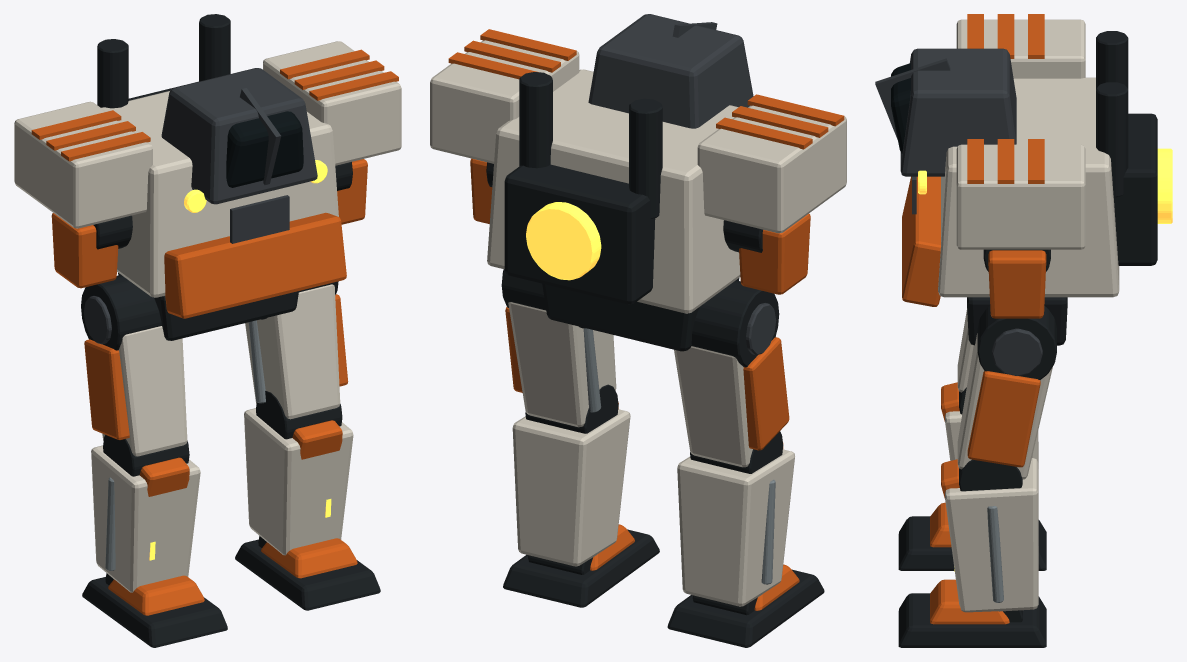
File: mech_ring.glb
The picture shows the model from 3 angles, left to right: view 1: azimuth 30°, elevation 25°; view 2: azimuth 150°, elevation 25°; view 3: azimuth 270°, elevation 25°; orthographic projection. The views are drawn at different scales.
Parts seen in each view (by area): view 1: core, lower_plate, shoulder_L, shin_armor_R, cockpit_frame, shin_armor_L, thigh_armor_R, shoulder_R, thigh_armor_L, foot_sole_R, foot_sole_L, canopy (+26 smaller); view 2: core, shin_armor_R, shin_armor_L, cockpit_frame, reactor_housing, shoulder_L, thigh_armor_R, shoulder_R, thigh_armor_L, pelvis, foot_sole_R, foot_sole_L (+22 smaller); view 3: core, shoulder_R, cockpit_frame, shin_armor_R, reactor_housing, thigh_plate_R, foot_sole_R, shoulder_L, lower_plate, upper_arm_R, stack_R, hip_joint_R (+22 smaller).
Boxes of the visible parts, x1,y1,x2,y2 form: core: (101, 91, 338, 297); lower_plate: (164, 212, 346, 318); shoulder_L: (14, 101, 152, 228); shin_armor_R: (244, 408, 353, 555); cockpit_frame: (161, 68, 317, 204); shin_armor_L: (91, 445, 200, 592); thigh_armor_R: (245, 284, 340, 419); shoulder_R: (263, 41, 401, 165); thigh_armor_L: (102, 326, 187, 456); foot_sole_R: (235, 539, 380, 610); foot_sole_L: (82, 577, 227, 647); canopy: (226, 111, 303, 187); core: (487, 69, 740, 313); shin_armor_R: (512, 409, 630, 566); shin_armor_L: (677, 449, 794, 606); cockpit_frame: (588, 14, 753, 128); reactor_housing: (504, 164, 655, 304); shoulder_L: (697, 105, 846, 233); thigh_armor_R: (508, 302, 616, 427); shoulder_R: (430, 40, 579, 163); thigh_armor_L: (674, 336, 775, 467); pelvis: (542, 278, 739, 351); foot_sole_R: (503, 529, 659, 607); foot_sole_L: (667, 569, 824, 647); core: (938, 77, 1119, 297); shoulder_R: (956, 144, 1085, 249); cockpit_frame: (900, 48, 1016, 176); shin_armor_R: (945, 458, 1038, 612); reactor_housing: (1113, 113, 1157, 265); thigh_plate_R: (967, 371, 1040, 467); foot_sole_R: (898, 593, 1046, 647); shoulder_L: (956, 19, 1085, 78); lower_plate: (902, 176, 940, 306); upper_arm_R: (988, 250, 1046, 318); stack_R: (1096, 82, 1128, 197); hip_joint_R: (977, 306, 1056, 379).
Size of the model in its own units: 5.18 by 7.74 by 3.92.
